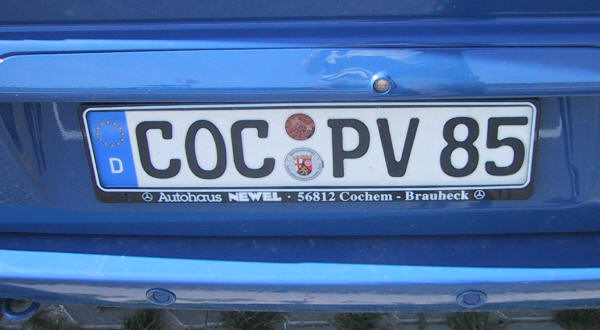license_plate: (84, 102, 536, 195)
